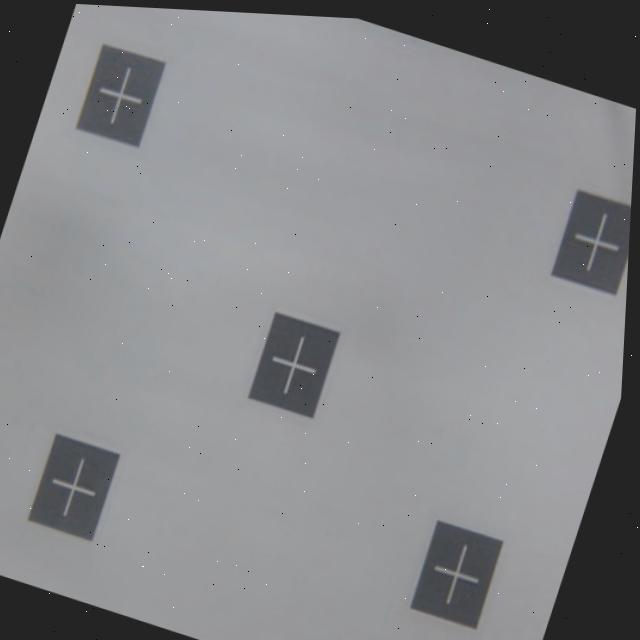dot: (407, 515, 505, 628), (247, 308, 343, 417), (74, 40, 166, 147), (28, 432, 120, 538), (548, 185, 632, 293)
